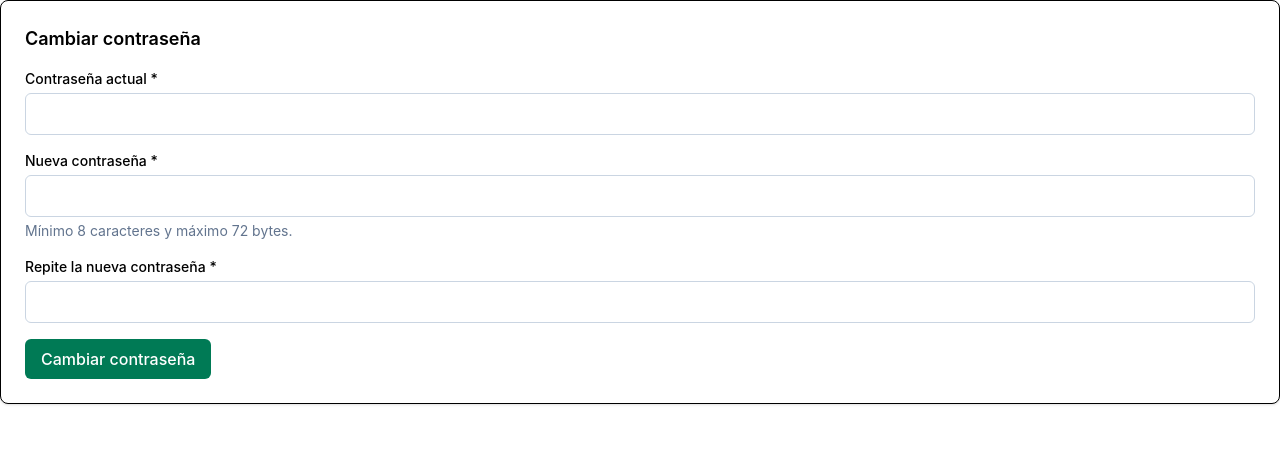
Test: ChangePasswordForm › sustituye la sesión por el token nuevo y vacía el formulario
Type "vieja1234" into the password field labelled "Contraseña actual *".
click(640, 114); type("vieja1234")  # box [25,93,1255,135]
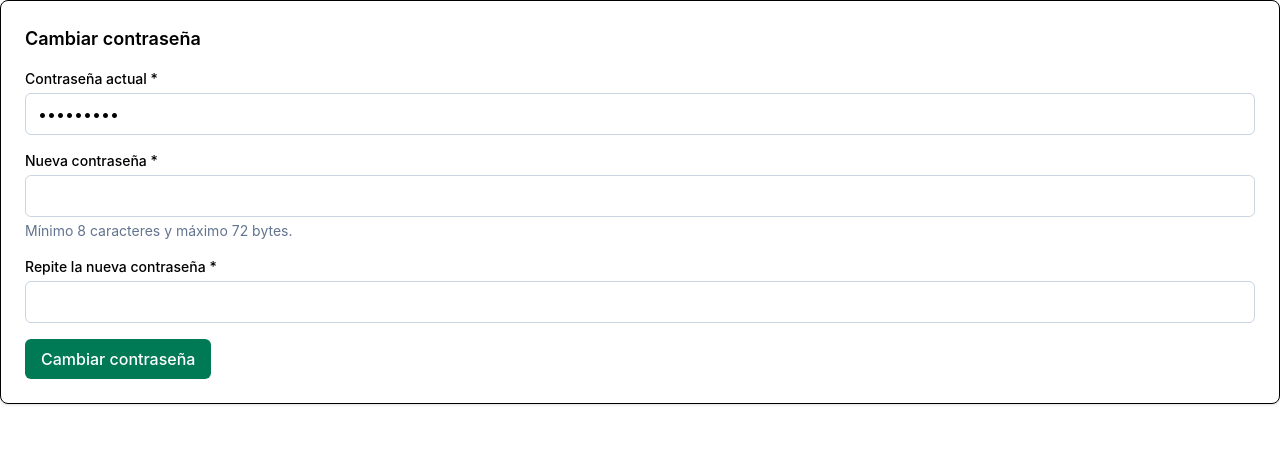
Type "nueva12345" into the password field labelled "Nueva contraseña *".
click(640, 196); type("nueva12345")  # box [25,175,1255,217]
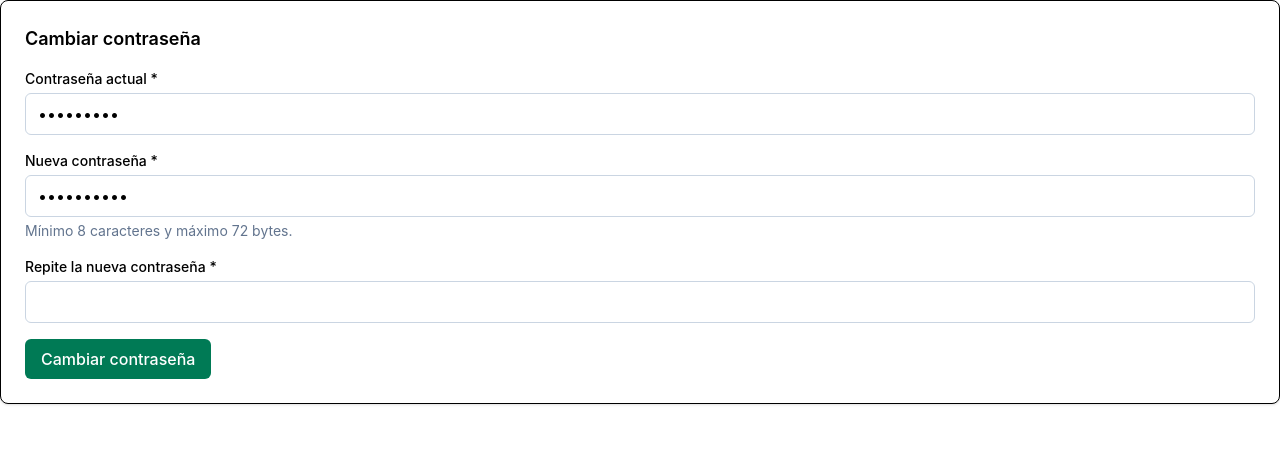
Type "nueva12345" into the password field labelled "Repite la nueva contraseña *".
click(640, 302); type("nueva12345")  # box [25,281,1255,323]
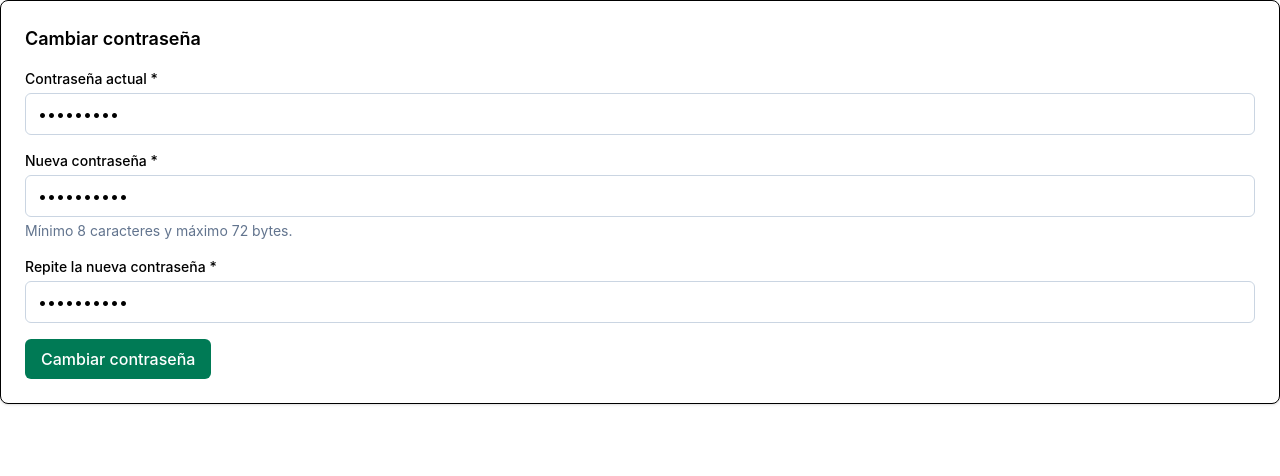
Click the button "Cambiar contraseña".
click(118, 359)  # box [25,339,211,379]
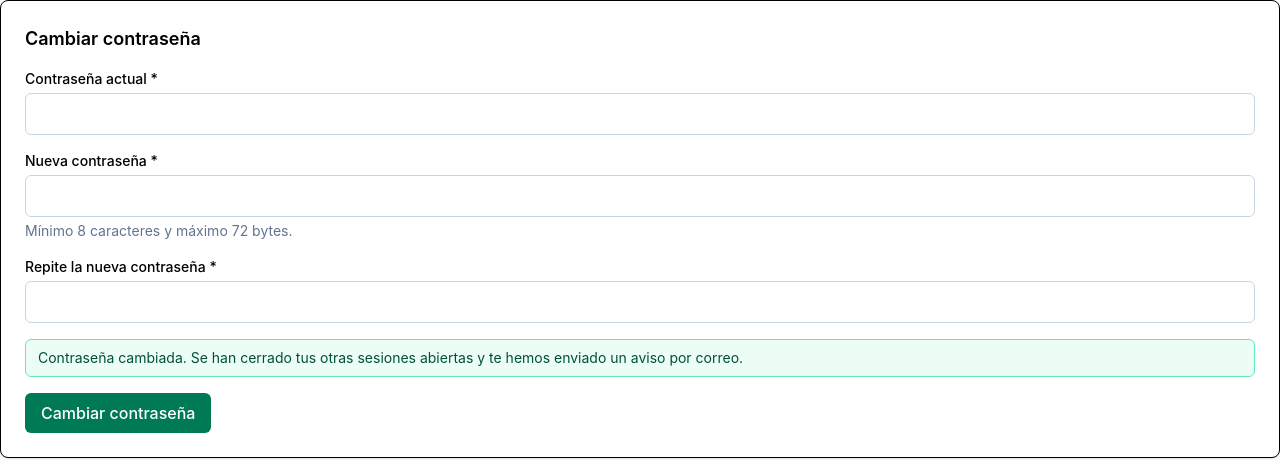
Expected: the text "Contraseña cambiada" is shown, [38,349,743,366]
Expected: the password field labelled "Contraseña actual *" is empty, [25,93,1255,135]
